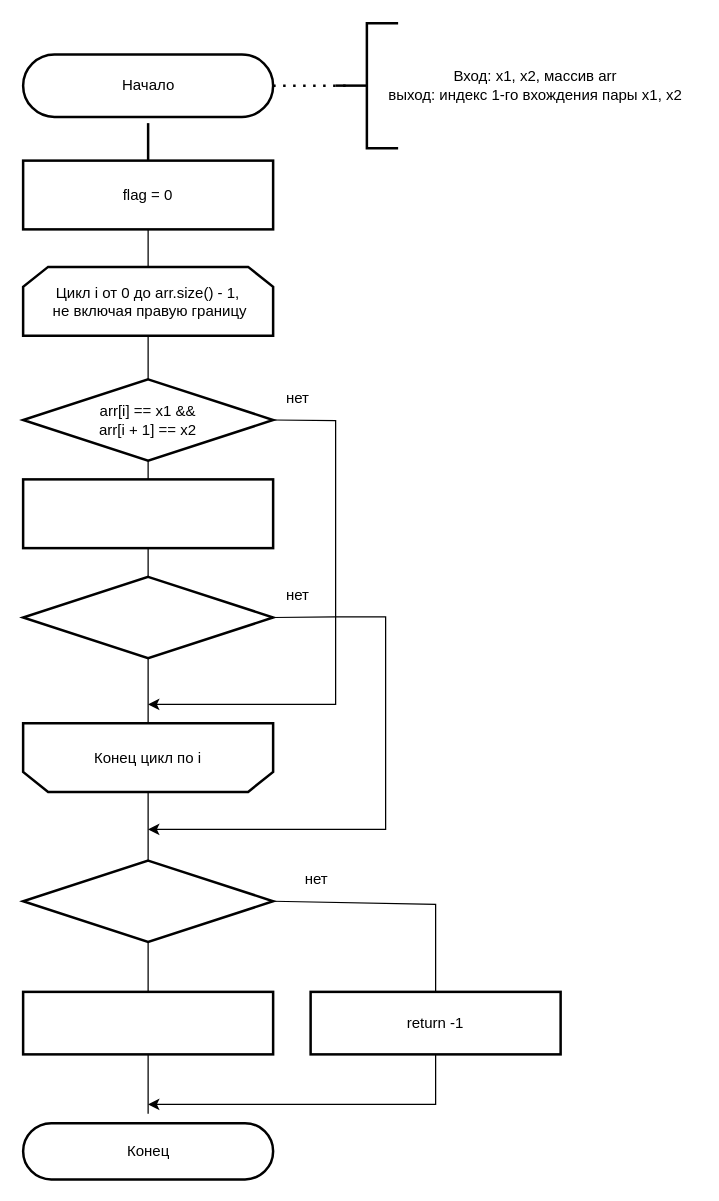
This 719x1201 diagram has some shape labels left out. The shapes that lost their labels are listed below. From the top down, each one's centre as x and y in pixels, then its label:
point 147,513: flag += 1
point 147,617: flag != 0
point 147,900: flag == 1
point 147,1022: return i
